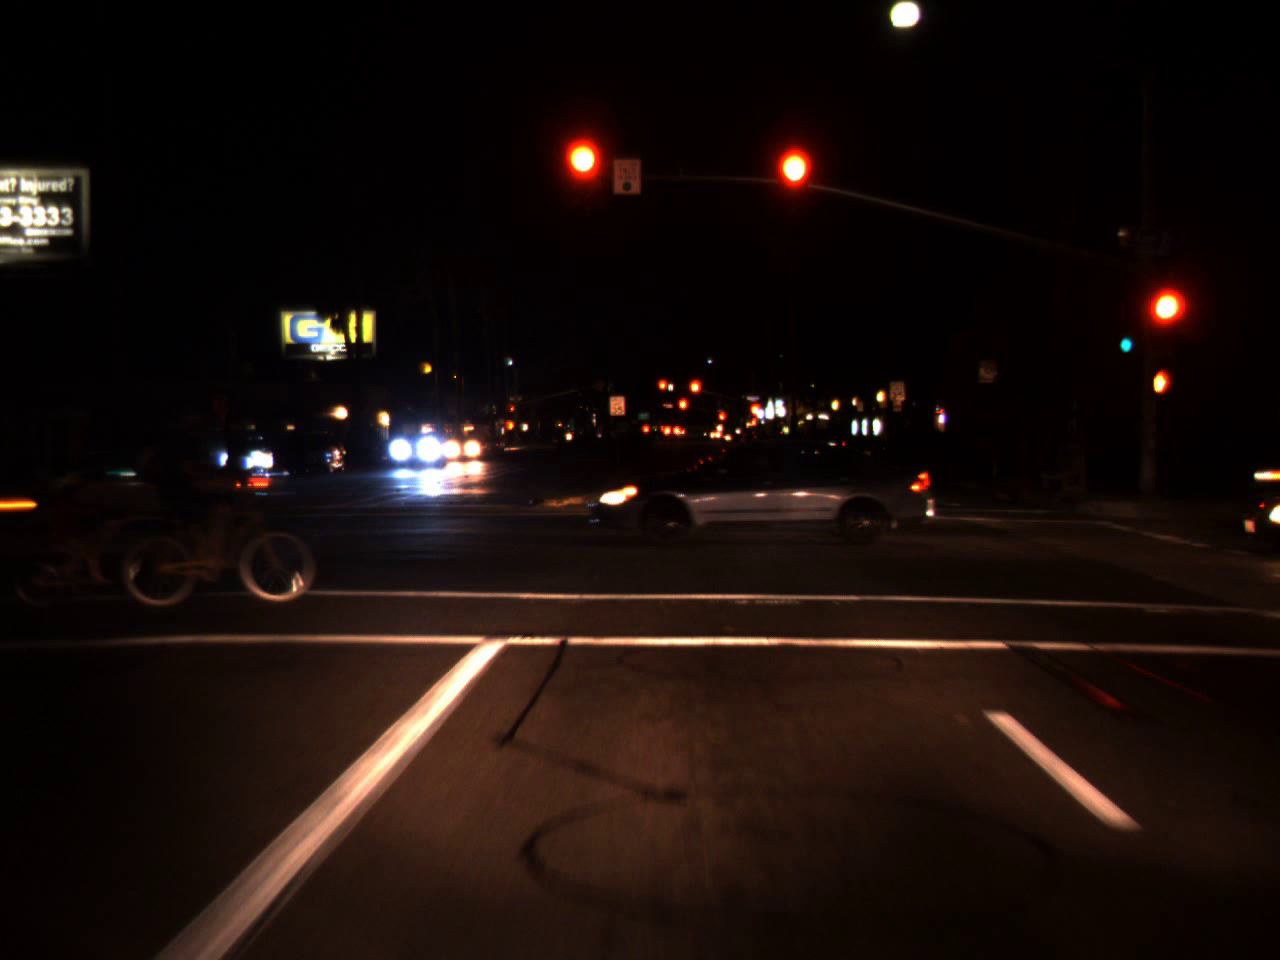stop: (1144, 286, 1183, 364), (775, 150, 811, 220), (566, 141, 600, 213), (687, 378, 703, 410), (676, 396, 689, 425), (747, 402, 762, 423), (656, 376, 668, 400), (504, 401, 516, 425), (717, 410, 726, 431)
